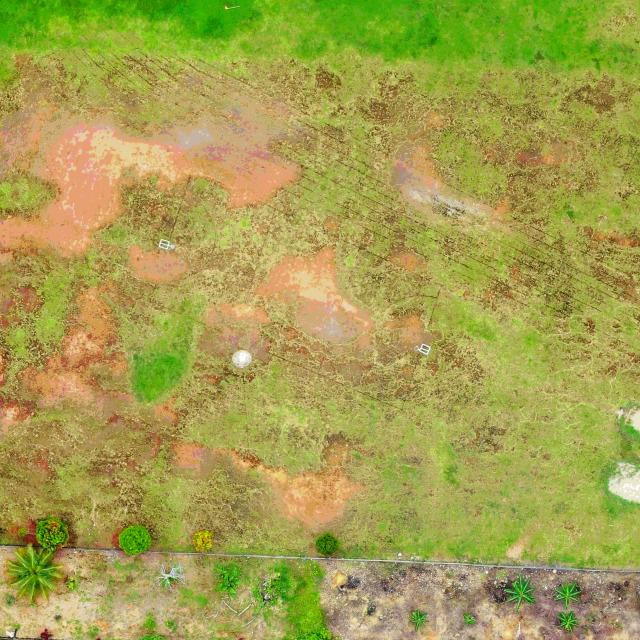Tree: (4, 544, 66, 604), (503, 575, 538, 612), (35, 514, 70, 548), (118, 524, 152, 554), (553, 579, 584, 609), (215, 563, 241, 598), (315, 532, 339, 555), (557, 610, 580, 633), (408, 610, 430, 633), (191, 529, 215, 550), (462, 611, 476, 625)
